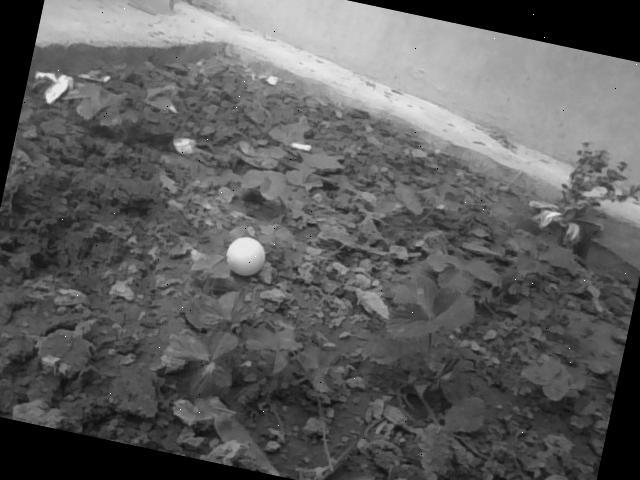ball: (223, 236, 268, 280)
